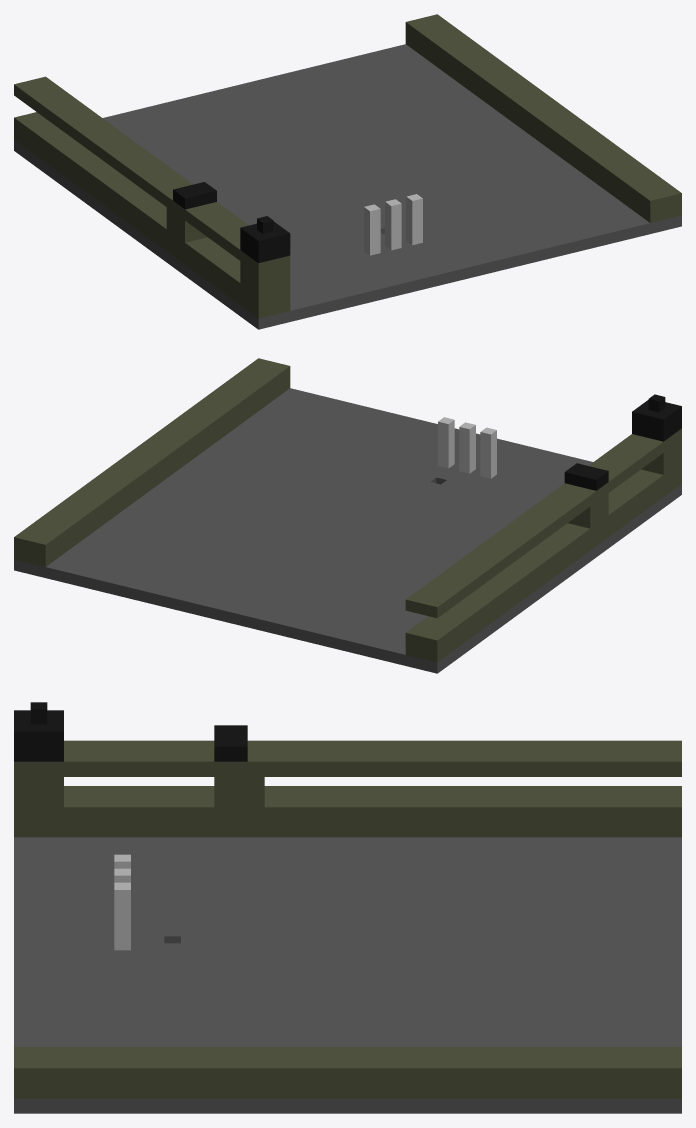
The model's file is goromon1.glb.
The picture shows the model from 3 angles, top to bottom: view 1: azimuth 30°, elevation 25°; view 2: azimuth 150°, elevation 25°; view 3: azimuth 270°, elevation 25°; orthographic projection. The views are drawn at different scales.
Visible parts, largest first — view 1: Untitled; view 2: Untitled; view 3: Untitled.
Part boxes in pixels (x1,y1,x2,y2): Untitled: [14, 14, 681, 329]; Untitled: [14, 358, 681, 673]; Untitled: [14, 702, 681, 1113].
Size of the model in its own units: 4 by 0.9 by 4.
1 material, 1 textured.
